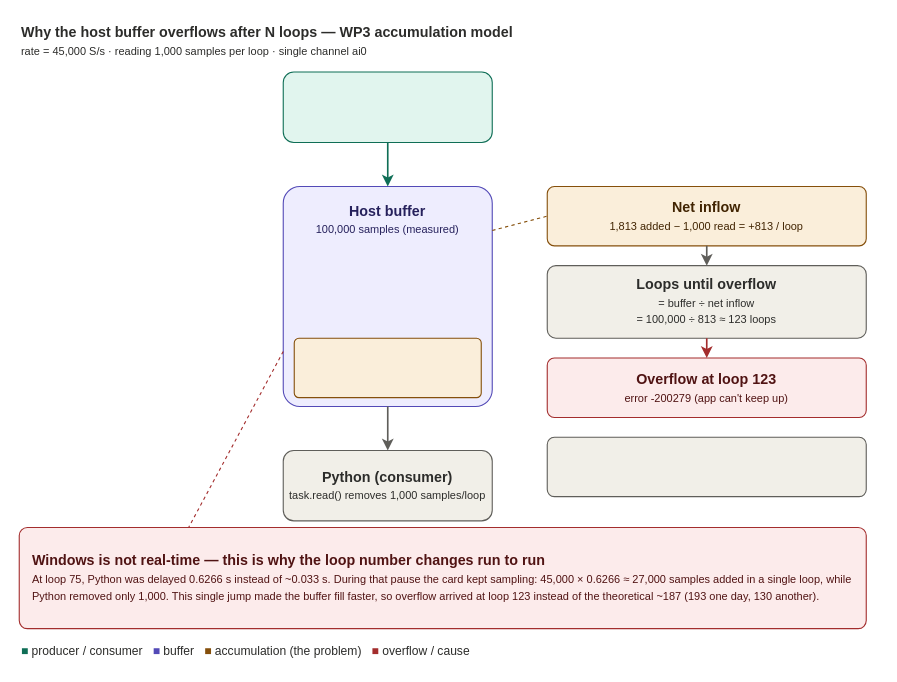
The diagram is 897 pixels wide and 682 high, and some of its shapes have lost their labels. The centre of each missing label's shape, as x and y in pixels:
"accumulating +813 samples / loop" goes at pixel 387 367.
"Card (producer) 45,000 S/s → adds 1,813 samples/loop" goes at pixel 387 106.
"Expected vs measured theoretical ~187 loops · measured 123 (Windows jitter)" goes at pixel 706 466.
